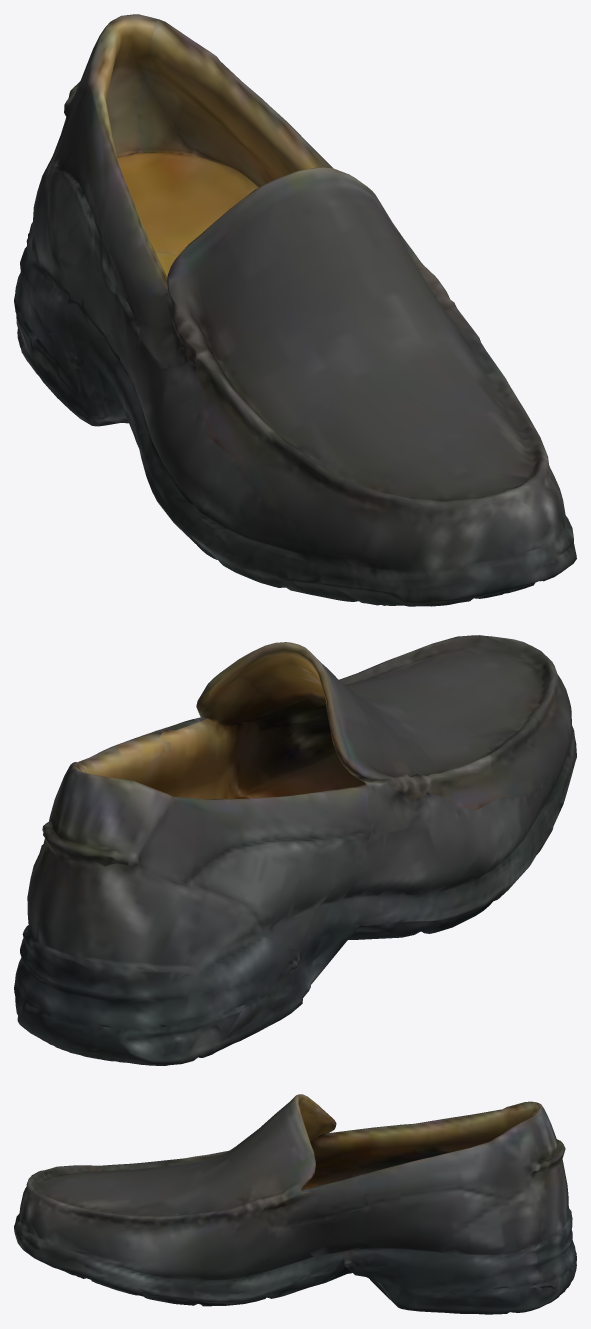
The model's file is Mens_Gold_Cup_ASV_Dress_Casual_Venetian_in_Dark_Brown_Leather-high.glb.
3 renders of one model, top to bottom at view 1: azimuth 30°, elevation 25°; view 2: azimuth 150°, elevation 25°; view 3: azimuth 270°, elevation 25°, orthographic. The views are drawn at different scales.
Visible parts, largest first — view 1: Mens_Gold_Cup_ASV_Dress_Casual_Venetian_in_Dark_Brown_Leathe; view 2: Mens_Gold_Cup_ASV_Dress_Casual_Venetian_in_Dark_Brown_Leathe; view 3: Mens_Gold_Cup_ASV_Dress_Casual_Venetian_in_Dark_Brown_Leathe.
Boxes of the visible parts, <box> form: Mens_Gold_Cup_ASV_Dress_Casual_Venetian_in_Dark_Brown_Leathe: <box>14,14,576,606</box>; Mens_Gold_Cup_ASV_Dress_Casual_Venetian_in_Dark_Brown_Leathe: <box>14,635,576,1065</box>; Mens_Gold_Cup_ASV_Dress_Casual_Venetian_in_Dark_Brown_Leathe: <box>14,1094,576,1314</box>.
Bounding box in the file's own units: 0.1072 × 0.1064 × 0.2946.
Materials: 1 (1 with a texture image).
